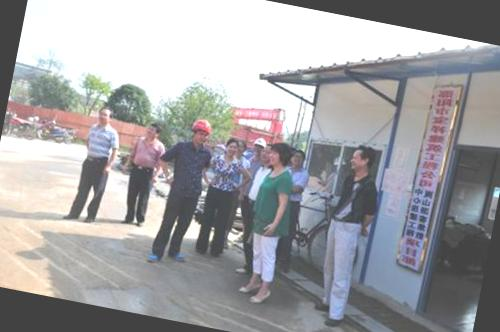no_helmet: (345, 140, 379, 181), (268, 136, 296, 171), (95, 99, 117, 128), (142, 117, 168, 141), (290, 145, 311, 168), (224, 136, 242, 158), (260, 141, 274, 162)
